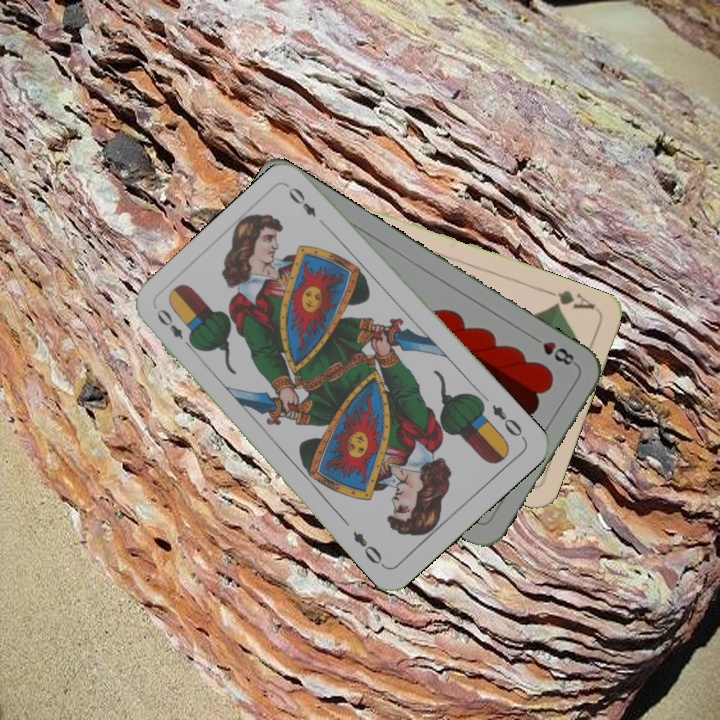EO: (152, 304, 198, 353), (487, 400, 528, 442)
GA: (541, 285, 598, 313)
H8: (527, 331, 580, 368)
